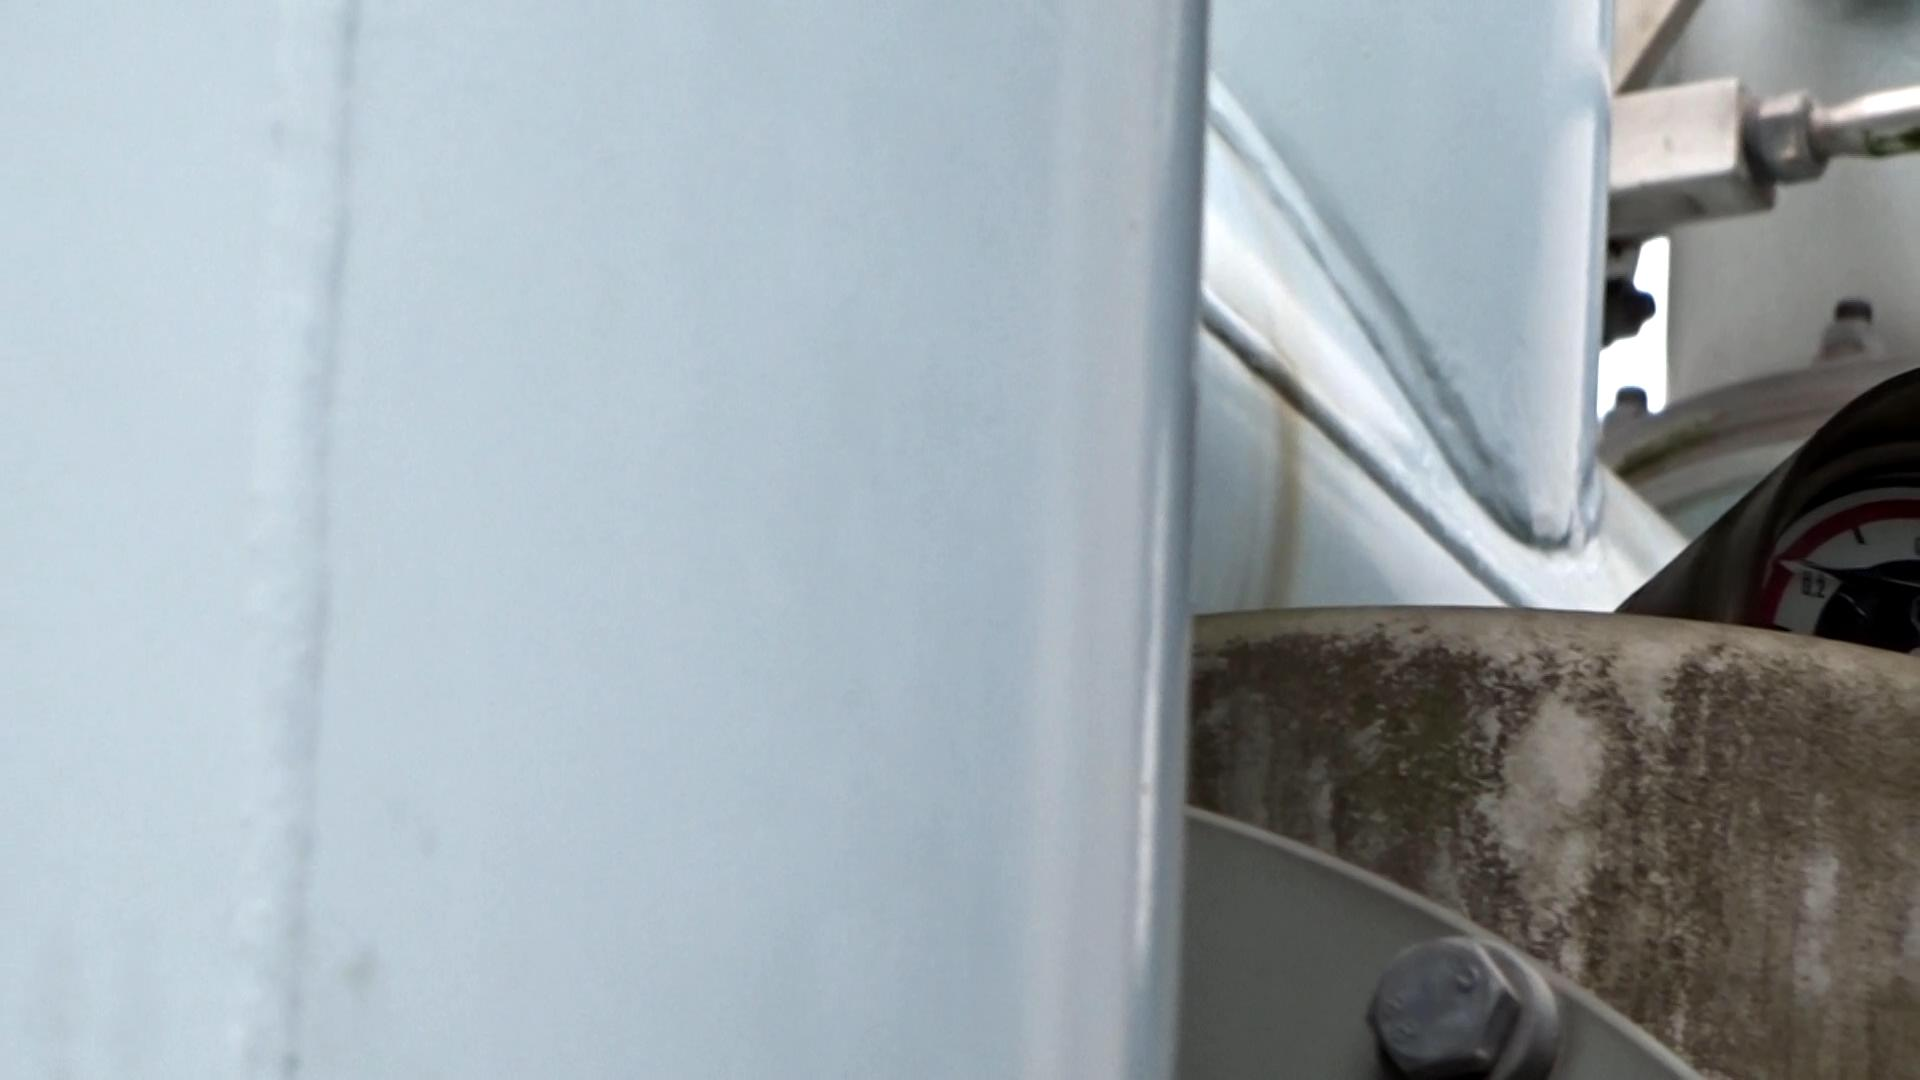instrument: (1745, 446, 1920, 650)
